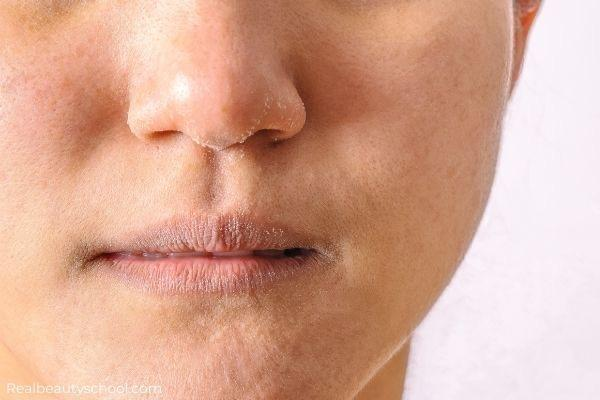Dry-Skin: (394, 132, 457, 190), (203, 300, 257, 364), (291, 301, 360, 341), (403, 38, 459, 86), (40, 79, 90, 129), (210, 119, 274, 143)
